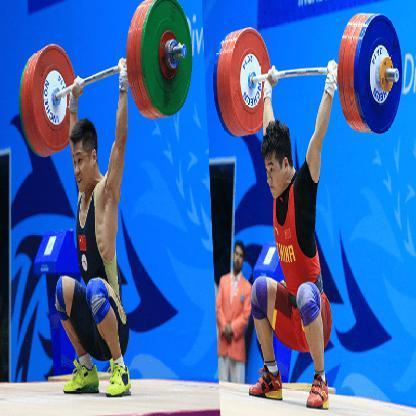barbell: (16, 0, 194, 156), (214, 13, 403, 137), (193, 156, 195, 158)
